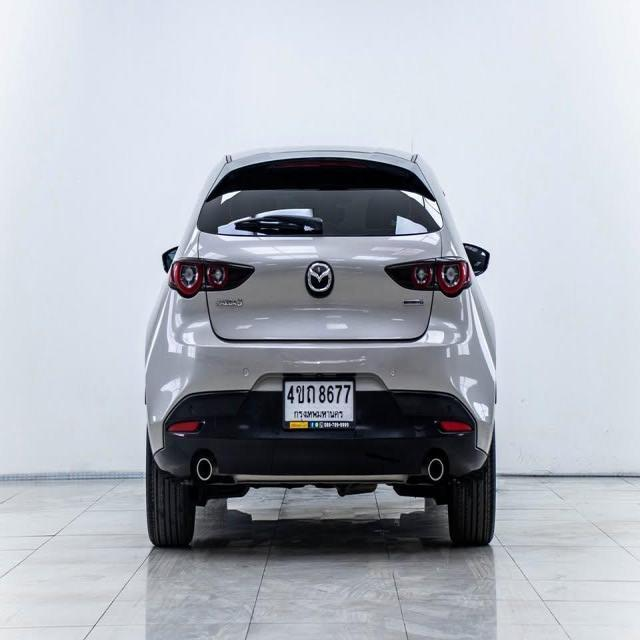Hatchback: (143, 146, 499, 550)
